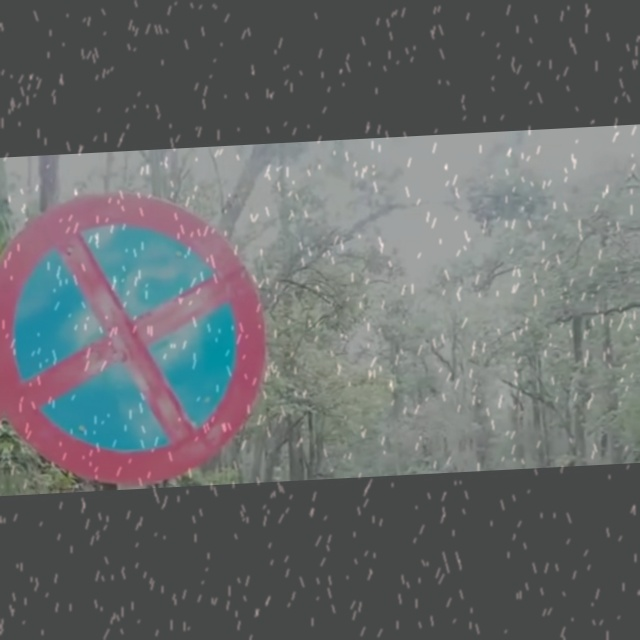No_Stopping_or_Standing: (6, 204, 260, 460)
